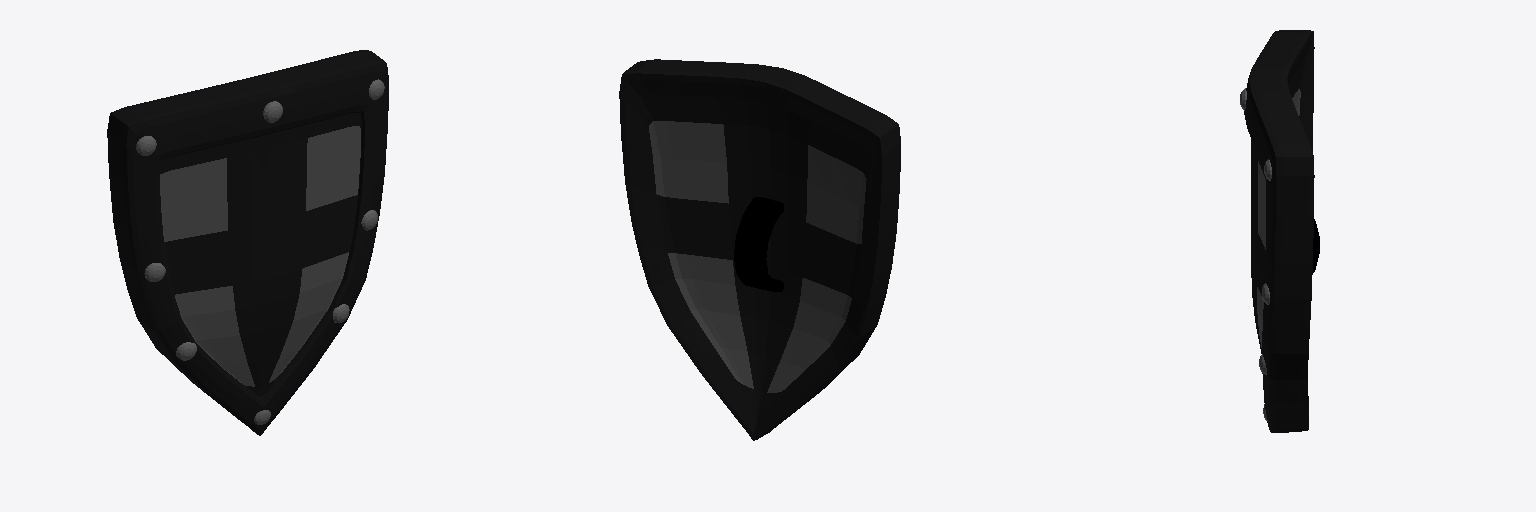
Rendered from Shield03.obj.
The picture shows the model from 3 angles: view 1: azimuth 30°, elevation 25°; view 2: azimuth 150°, elevation 25°; view 3: azimuth 270°, elevation 25°; orthographic projection.
Parts seen in each view (by area): view 1: Shield_03_Sphere.004; view 2: Shield_03_Sphere.004; view 3: Shield_03_Sphere.004.
Boxes of the visible parts, x1,y1,x2,y2 form: Shield_03_Sphere.004: [107, 50, 388, 435]; Shield_03_Sphere.004: [619, 59, 900, 440]; Shield_03_Sphere.004: [1240, 30, 1319, 432].
Size of the model in its own units: 5.08 by 6.52 by 1.34.